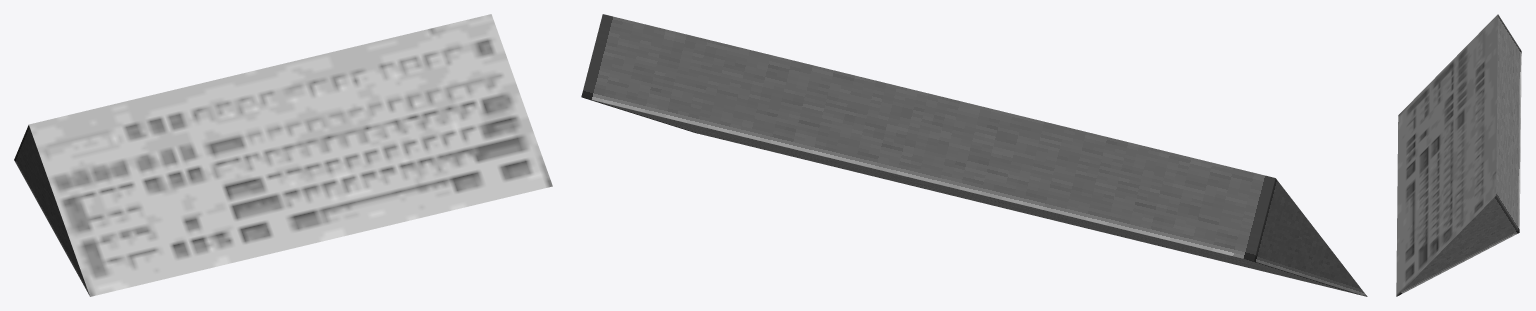
Rendered from primary_157.glb.
3 renders of one model, left to right at view 1: azimuth 30°, elevation 25°; view 2: azimuth 150°, elevation 25°; view 3: azimuth 270°, elevation 25°, orthographic. The views are drawn at different scales.
Visible parts, largest first — view 1: Object; view 2: Object; view 3: Object.
Part boxes in pixels (x1=…): Object: x1=14, y1=14, x2=552, y2=296; Object: x1=581, y1=14, x2=1367, y2=296; Object: x1=1396, y1=14, x2=1521, y2=296.
Size of the model in its own units: 0.5948 by 0.1573 by 0.174.
4 materials, 4 textured.
